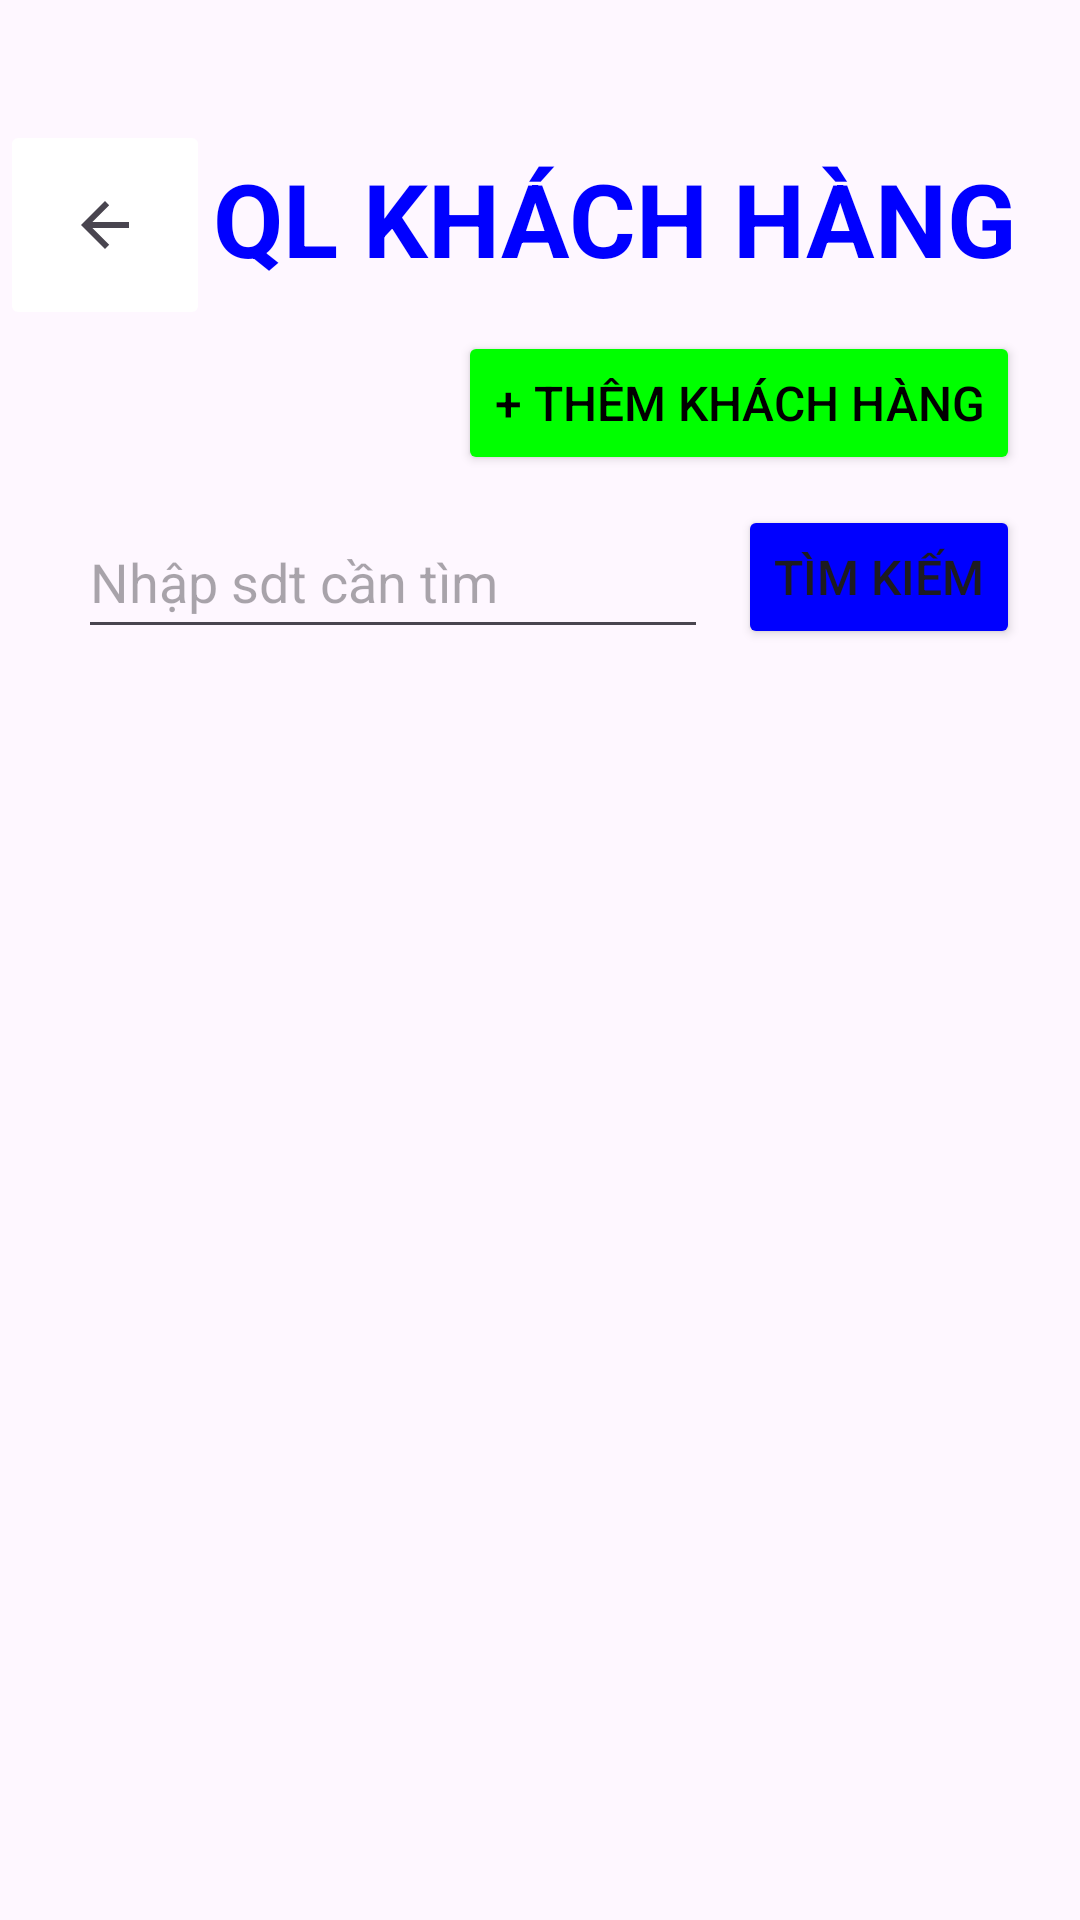

Icons on this 1080*1920 Android screen, each with the point to tap as (x,y):
Nút quay lại: (105,225)
